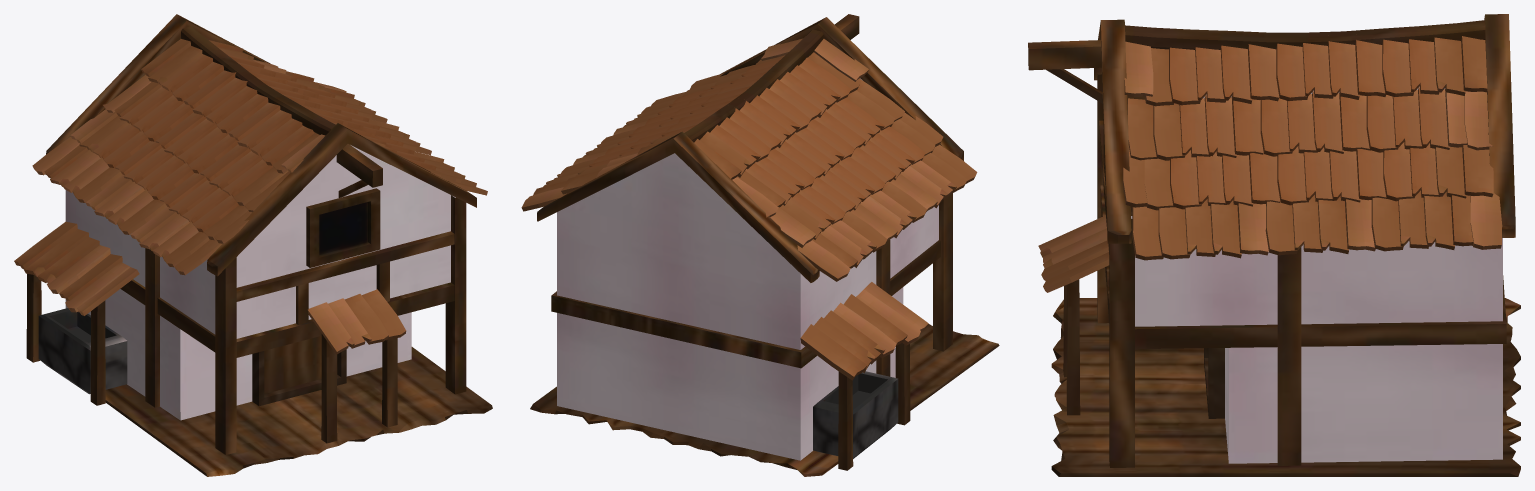
The model's file is House_Kambin.fbx.
3 views of the same model, side by side, from view 1: azimuth 30°, elevation 25°; view 2: azimuth 150°, elevation 25°; view 3: azimuth 270°, elevation 25° (orthographic). The views are drawn at different scales.
Parts seen in each view (by area): view 1: House01; view 2: House01; view 3: House01.
Boxes of the visible parts, x1,y1,x2,y2 form: House01: [14, 14, 492, 476]; House01: [521, 14, 999, 476]; House01: [1028, 14, 1520, 476].
Bounding box in the file's own units: 233 × 195 × 230.
